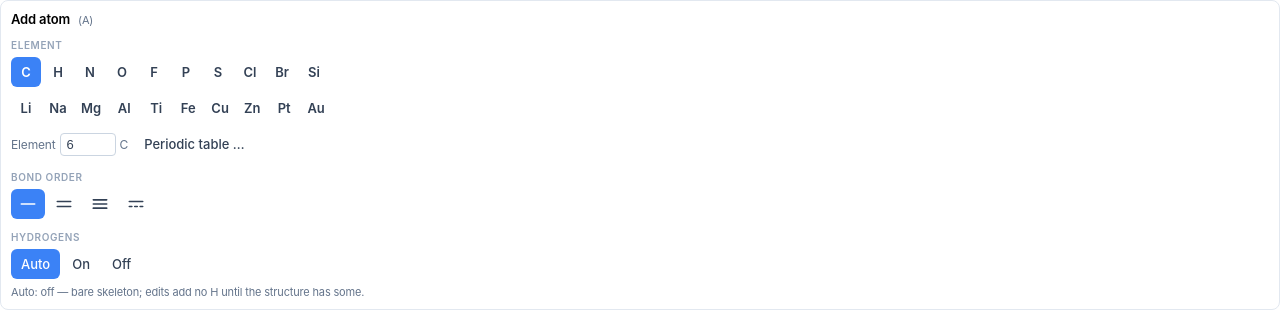
Test: ContextBar — Element › offers metals beside the common elements
The width and height of the screenshot is (1280, 327).
Expected: the element named "Metals" is shown, [11,93,331,123]
Click the button with test id "builder-element-Au" at (316, 108), box [301,93,331,123]
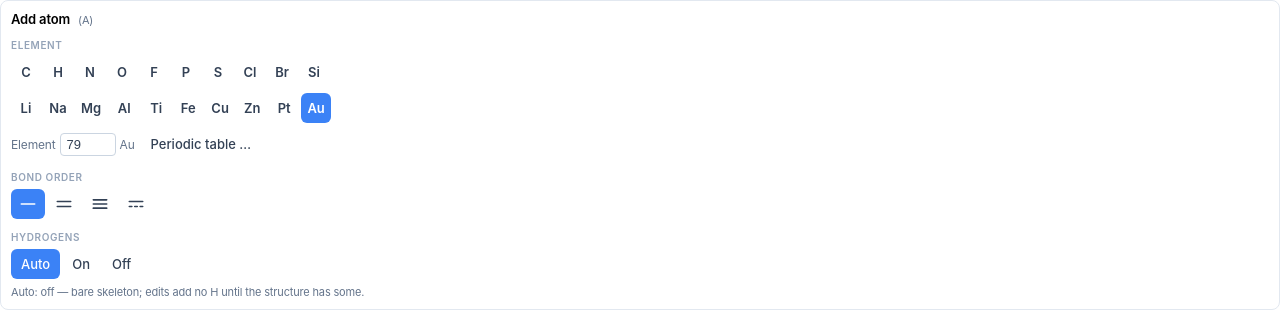
Now the text with test id "builder-element-symbol" reads "Au", box [120,136,135,152]
